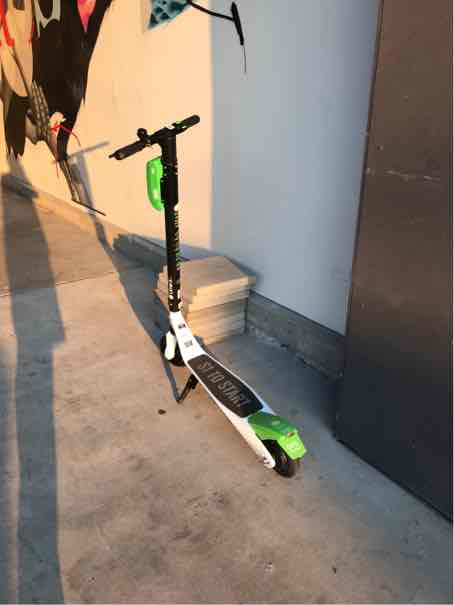scooter: (107, 109, 324, 478)
